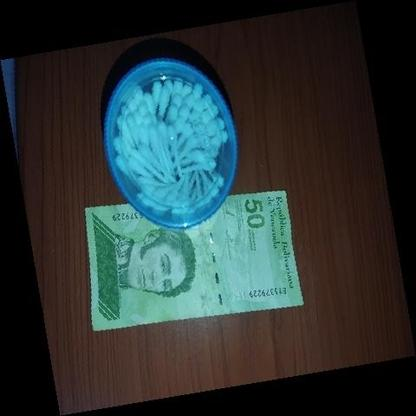fifty-front-vef: (84, 190, 306, 330)
